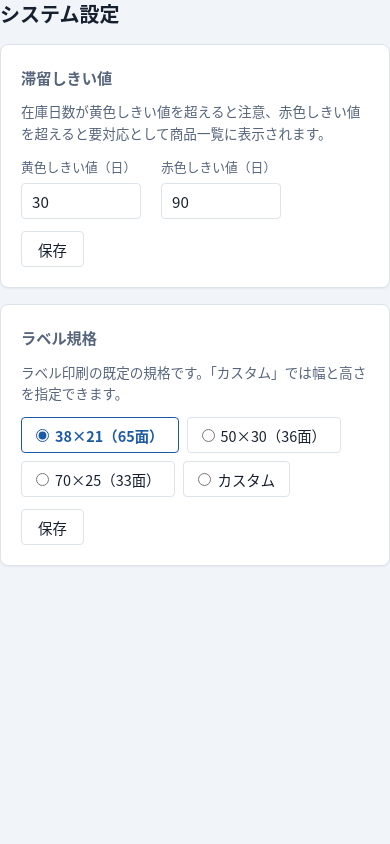
slow-move thresholds › PUTs alarm first when the target raises the red threshold (each step stays valid)
Replace the text in the number field with class "settings-input" showing "黄色しきい値（日）" with "45". click: (81, 201)
box: [21,183,141,219]
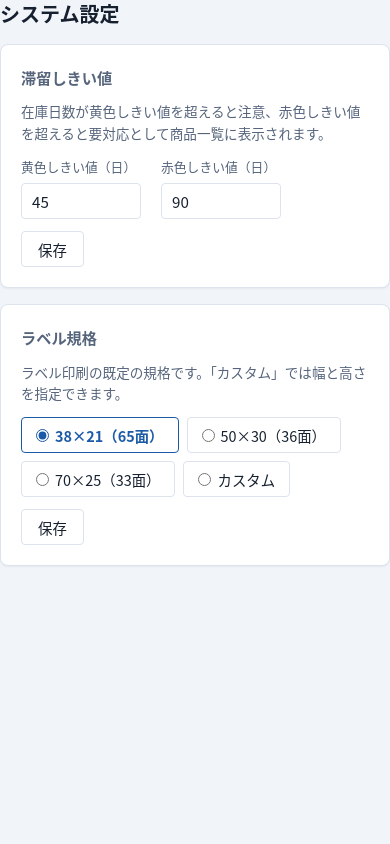
Replace the text in the number field with class "settings-input" showing "赤色しきい値（日）" with "100". click: (221, 201)
box: [161,183,281,219]
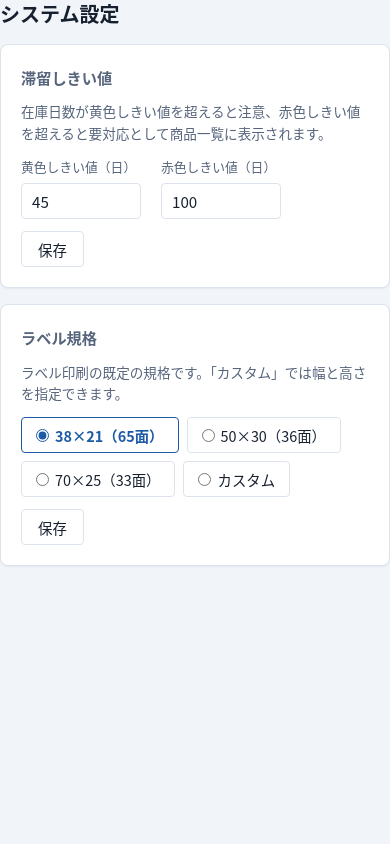
Click the button with class "settings-save" below "黄色しきい値（日）". click: (52, 249)
box: [21,231,84,267]
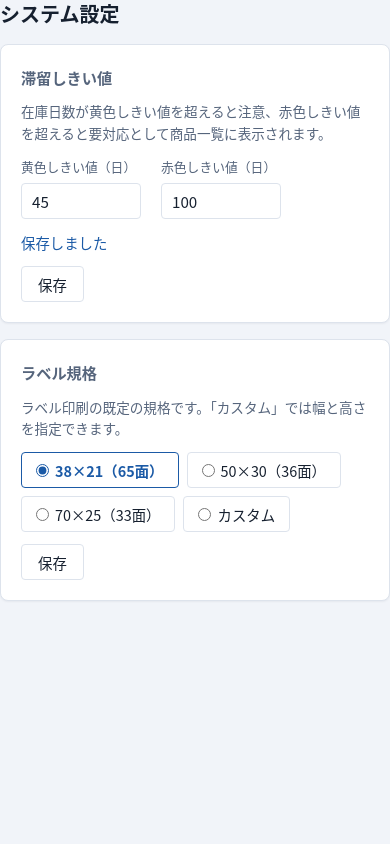
Expected: the text with class "settings-saved" reads "保存しました", [21,232,107,253]
